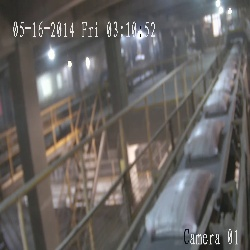cementbag: (145, 169, 212, 234), (184, 117, 223, 156), (204, 93, 227, 115), (213, 77, 232, 93), (219, 68, 235, 77), (224, 61, 236, 69)
